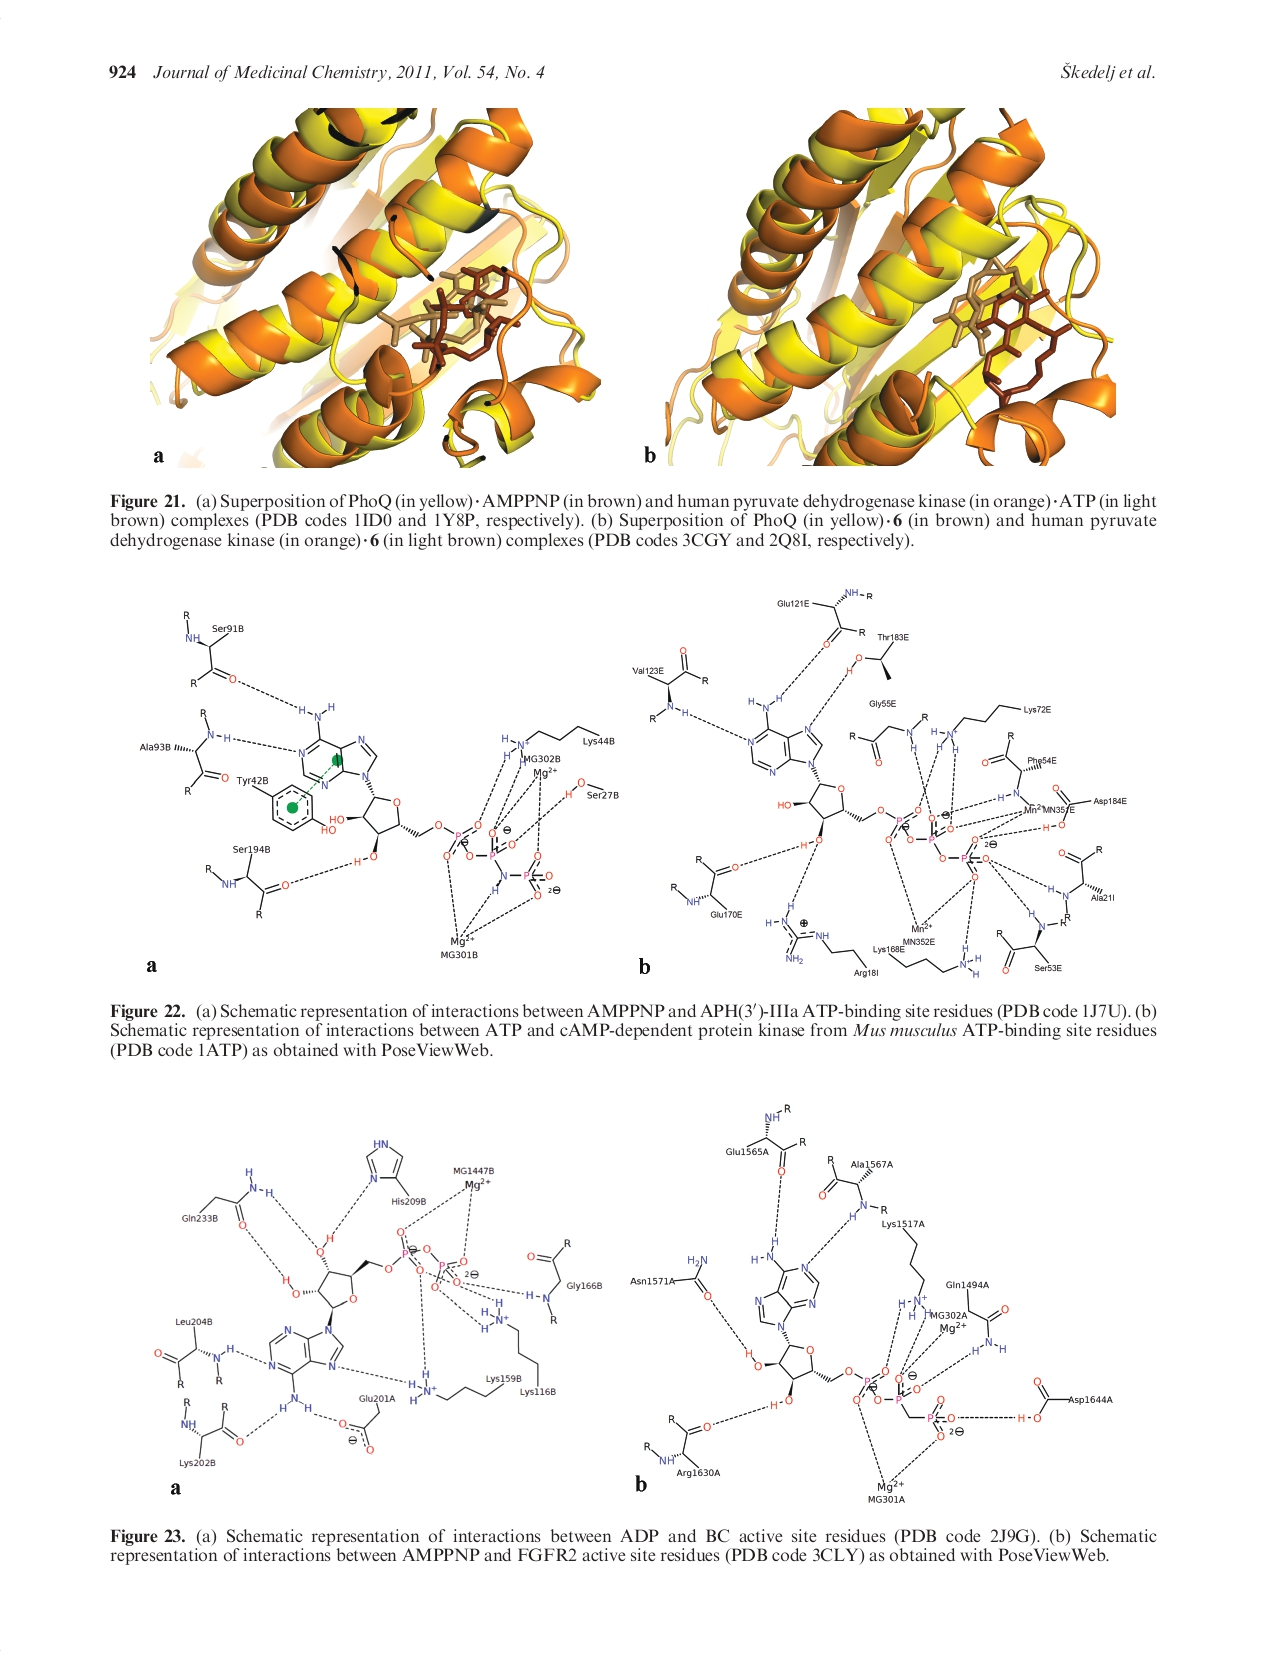exist_molecular: (237, 700, 565, 906), (743, 692, 999, 882), (742, 1235, 965, 1442), (267, 1227, 480, 1415), (763, 899, 879, 981), (137, 705, 231, 797), (199, 836, 298, 922), (479, 1293, 559, 1396), (521, 1235, 602, 1325), (149, 1310, 238, 1388), (629, 644, 709, 727), (930, 701, 1053, 754), (774, 585, 874, 649), (178, 1166, 278, 1230), (489, 718, 618, 767), (180, 600, 247, 692), (942, 1274, 1013, 1360), (723, 1102, 807, 1176), (977, 730, 1059, 803), (1045, 843, 1118, 923), (640, 1410, 721, 1481), (668, 854, 747, 923), (880, 1212, 931, 1321), (991, 908, 1072, 976), (176, 1392, 245, 1468), (817, 1153, 894, 1221), (360, 1134, 430, 1208), (844, 710, 930, 766), (1015, 1375, 1113, 1423), (406, 1366, 523, 1406), (628, 1253, 713, 1305), (868, 942, 987, 979), (1043, 782, 1128, 830), (336, 1391, 395, 1454), (840, 634, 911, 684), (563, 770, 620, 806)
